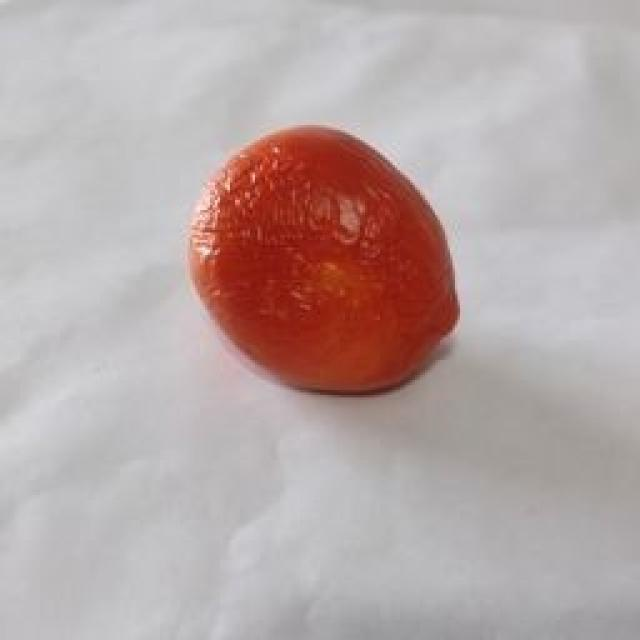overripe: (180, 120, 464, 396)
